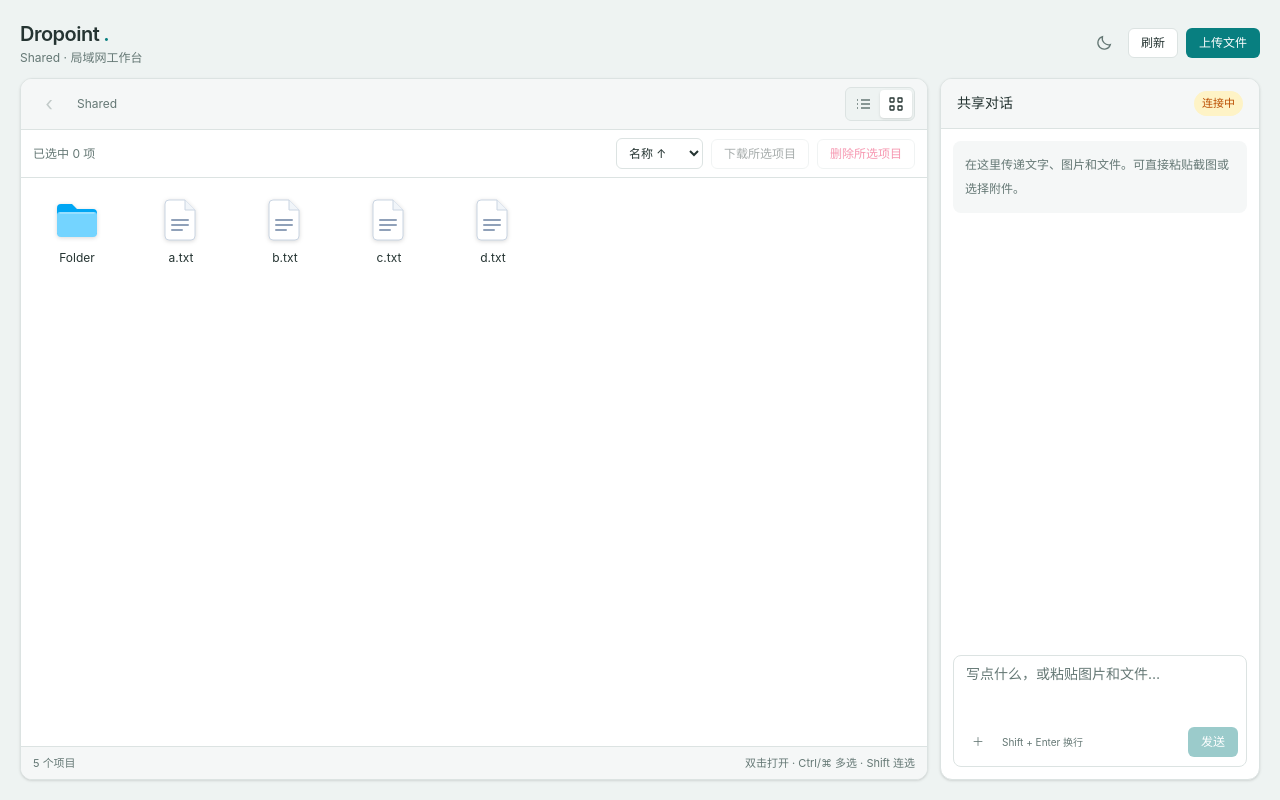
Test case: context menu and downloads › keeps selected groups on right click and replaces them for another item in 列表视图
The width and height of the screenshot is (1280, 800).
Expected: the button "a.txt" is shown, x1=133 y1=186 x2=229 y2=294
Click the button named "列表视图": (864, 104) x1=848 y1=90 x2=880 y2=118
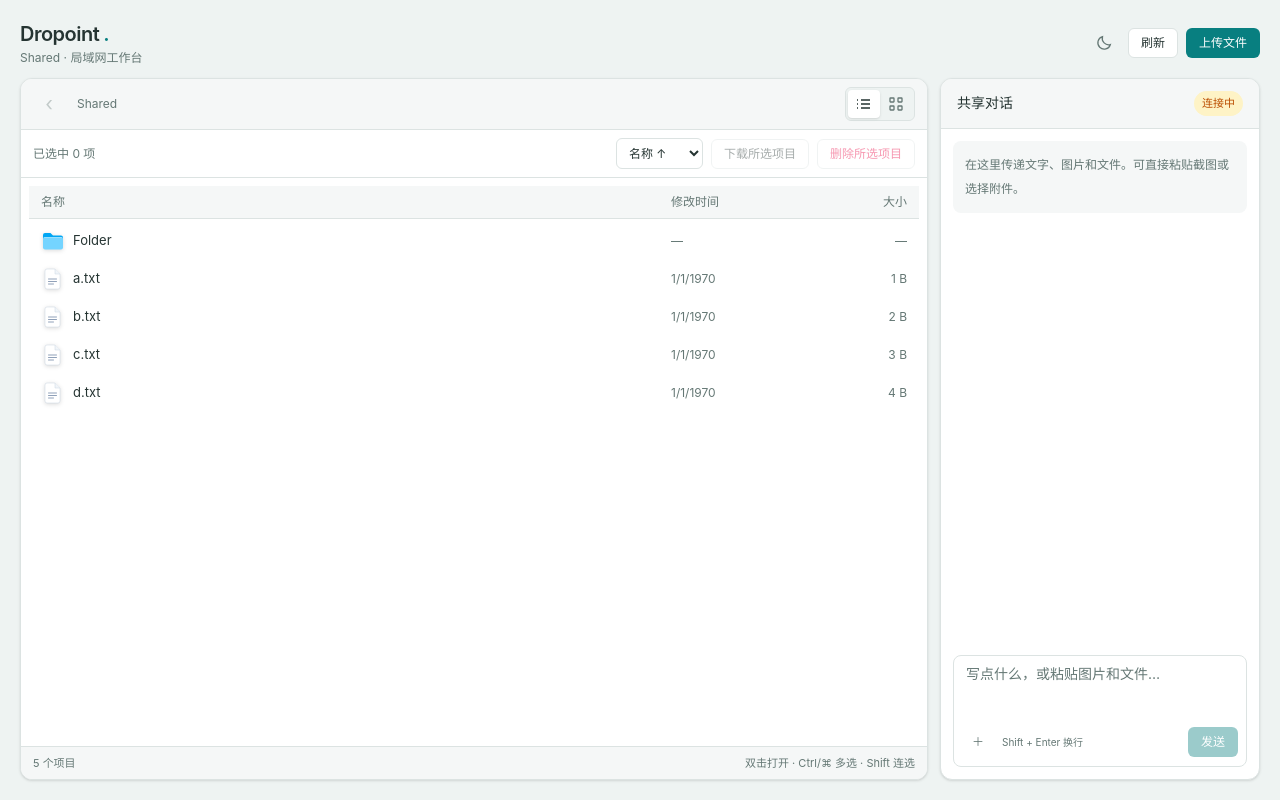
Click the button "a.txt 1/1/1970 1 B": (693, 278) x1=29 y1=261 x2=919 y2=297
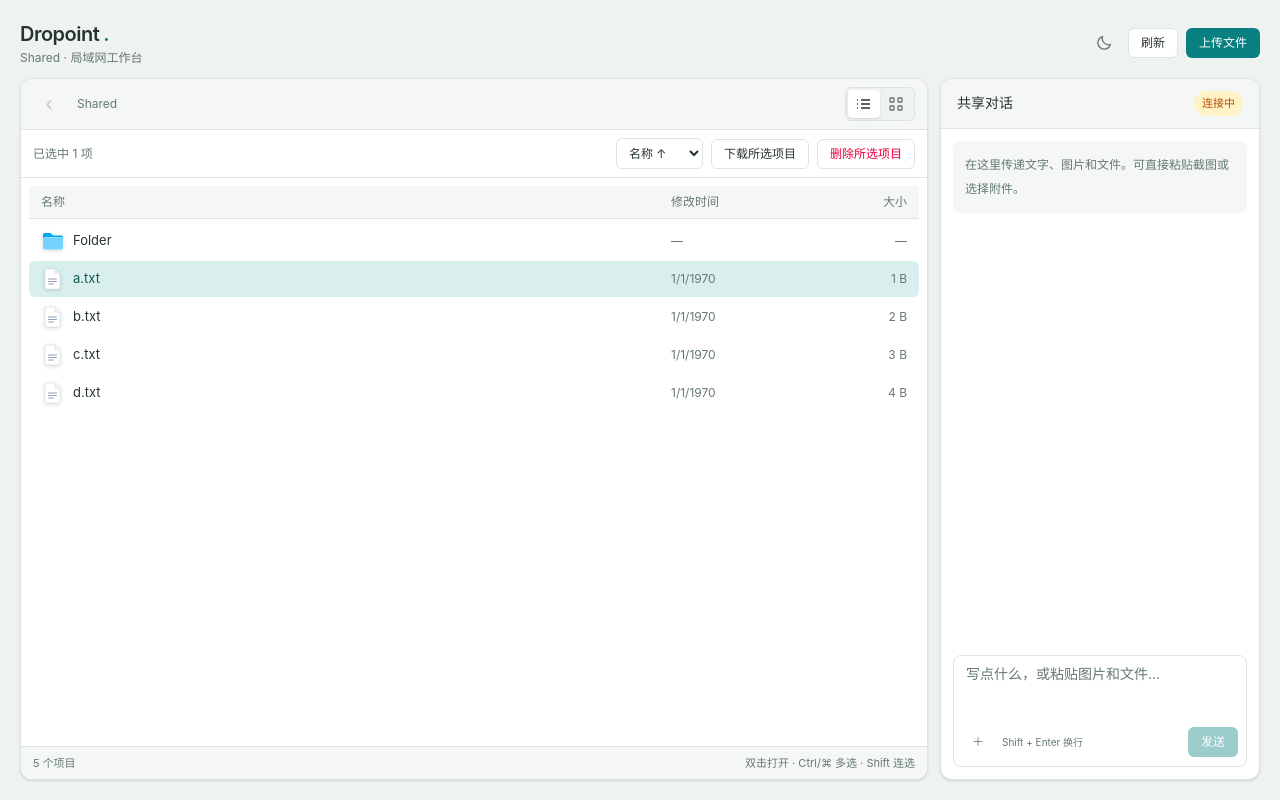
Click the button "b.txt 1/1/1970 2 B": (693, 316) x1=29 y1=299 x2=919 y2=335
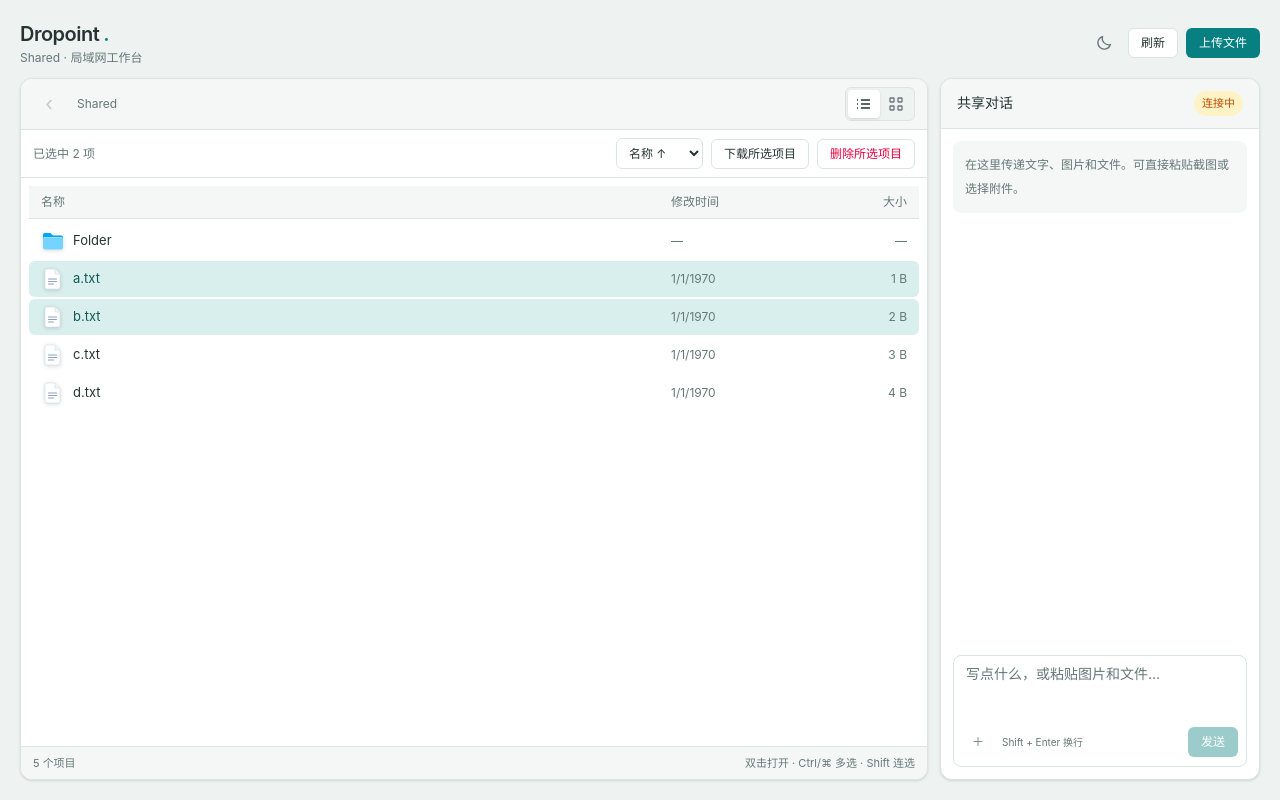
Right-click the button "a.txt 1/1/1970 1 B": (693, 278) x1=29 y1=261 x2=919 y2=297
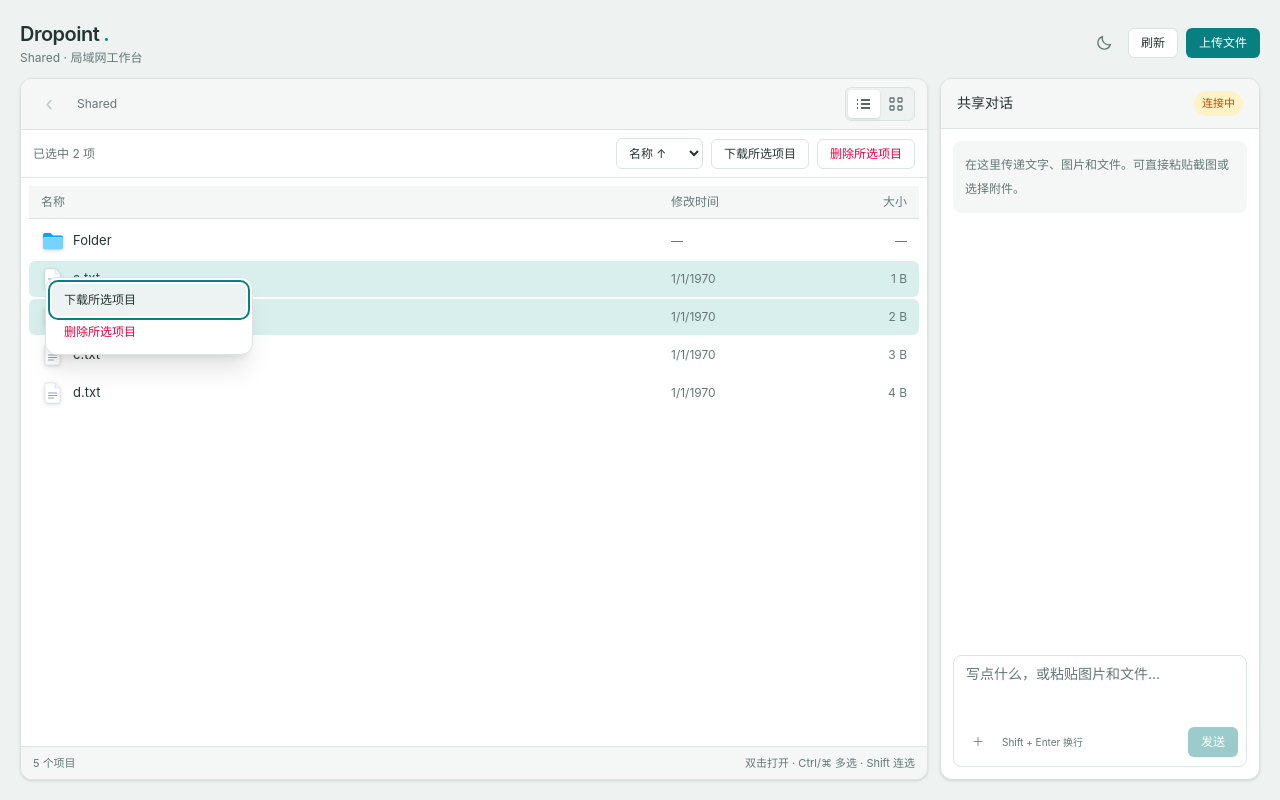
Expected: the menu item "预览" is not shown
Expected: the menu item "下载所选项目" is shown, x1=52 y1=284 x2=246 y2=316
Right-click the button "c.txt 1/1/1970 3 B": (693, 354) x1=29 y1=337 x2=919 y2=373
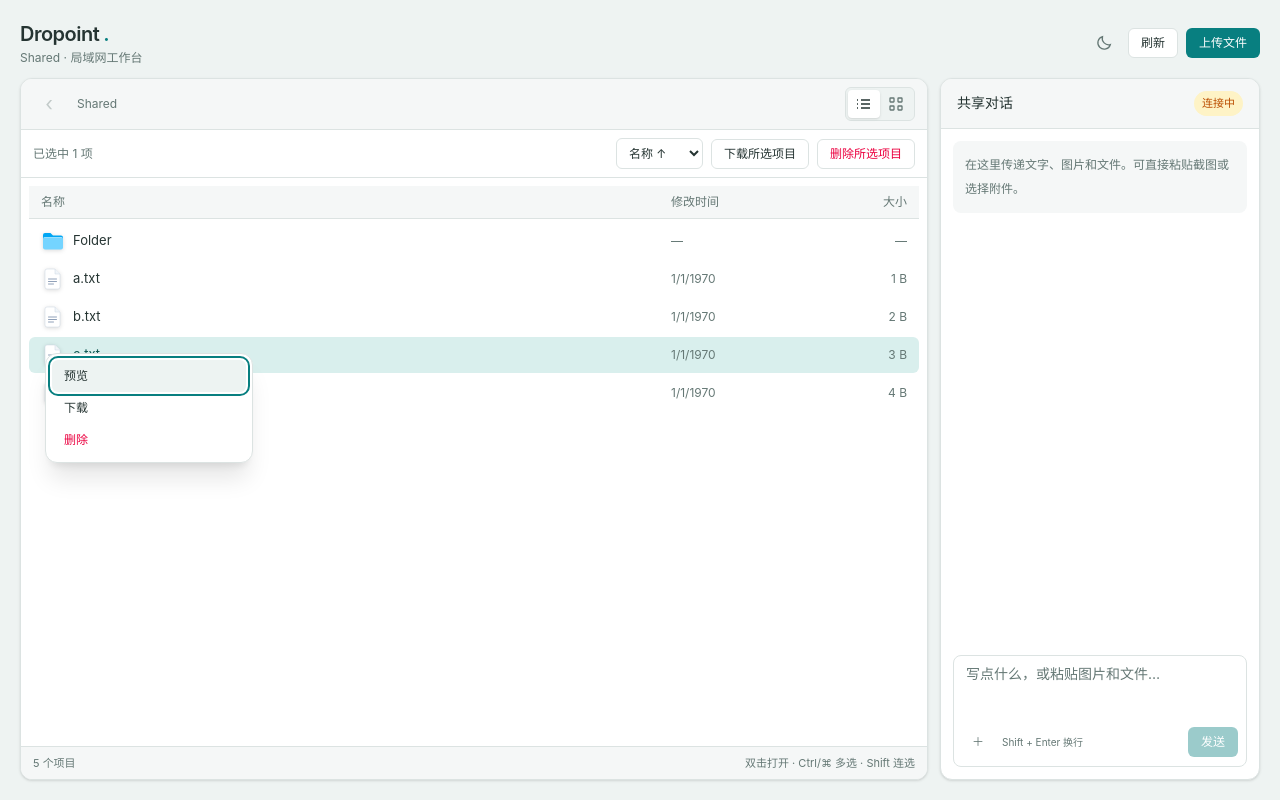
Expected: the menu item "预览" is shown, x1=52 y1=360 x2=246 y2=392
Press Escape in the menu, box x1=45 y1=353 x2=253 y2=463
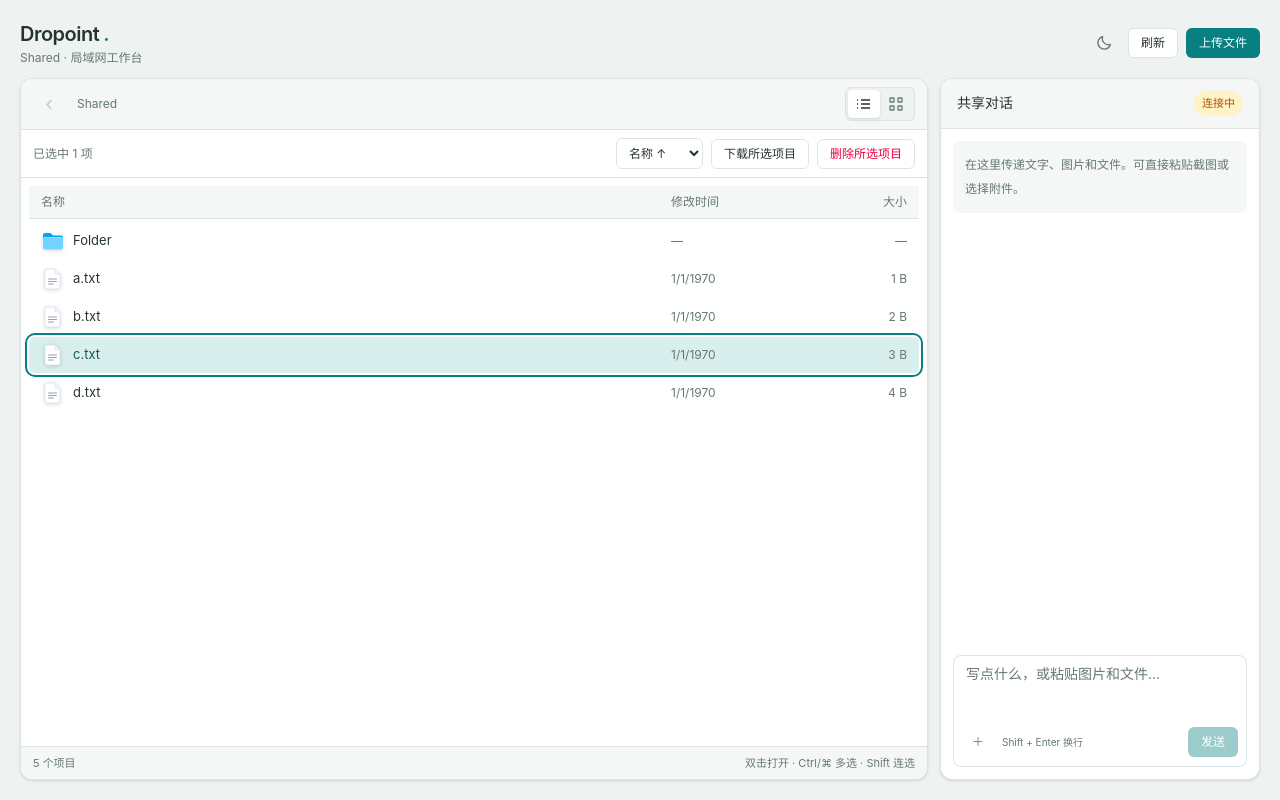
Expected: the menu is gone
